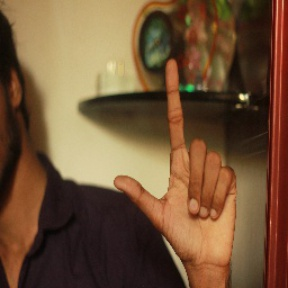L: (110, 57, 243, 263)
